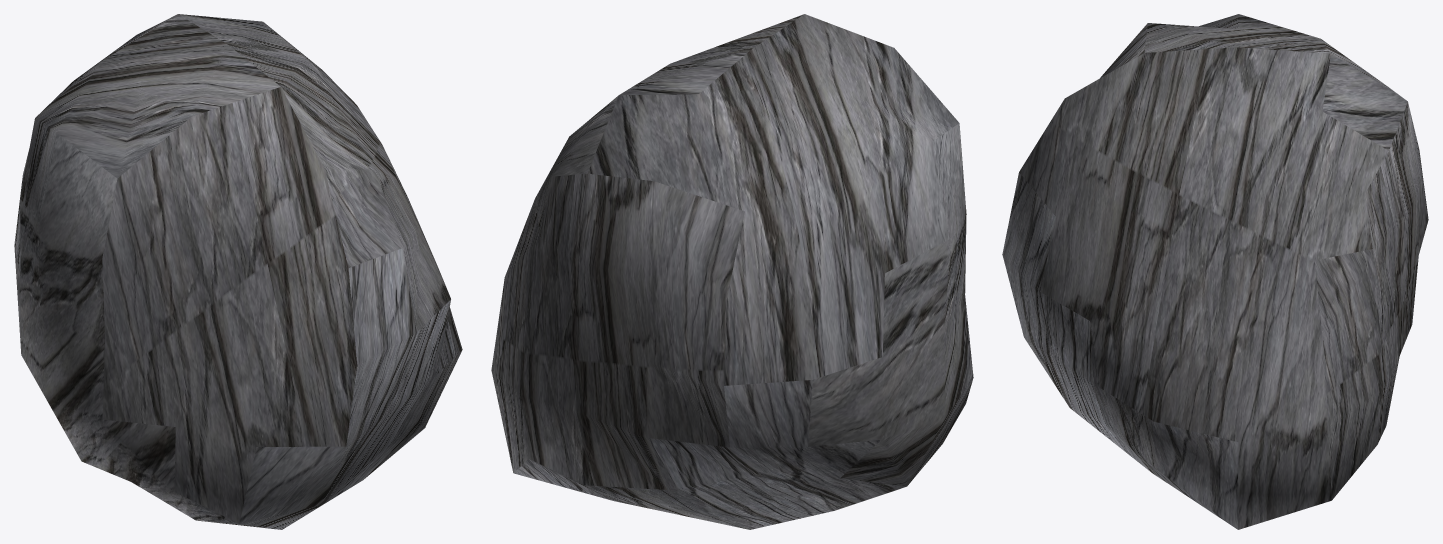
Rendered from rock.gltf.
3 views of the same model, side by side, from view 1: azimuth 30°, elevation 25°; view 2: azimuth 150°, elevation 25°; view 3: azimuth 270°, elevation 25° (orthographic). The views are drawn at different scales.
Visible parts, largest first — view 1: rock; view 2: rock; view 3: rock.
Boxes of the visible parts, box(x1,y1,x2,y2) form: rock: box(14, 14, 462, 529); rock: box(491, 14, 973, 529); rock: box(1002, 14, 1428, 529).
Size of the model in its own units: 1.02 by 1.11 by 1.02.
1 material, 1 textured.
